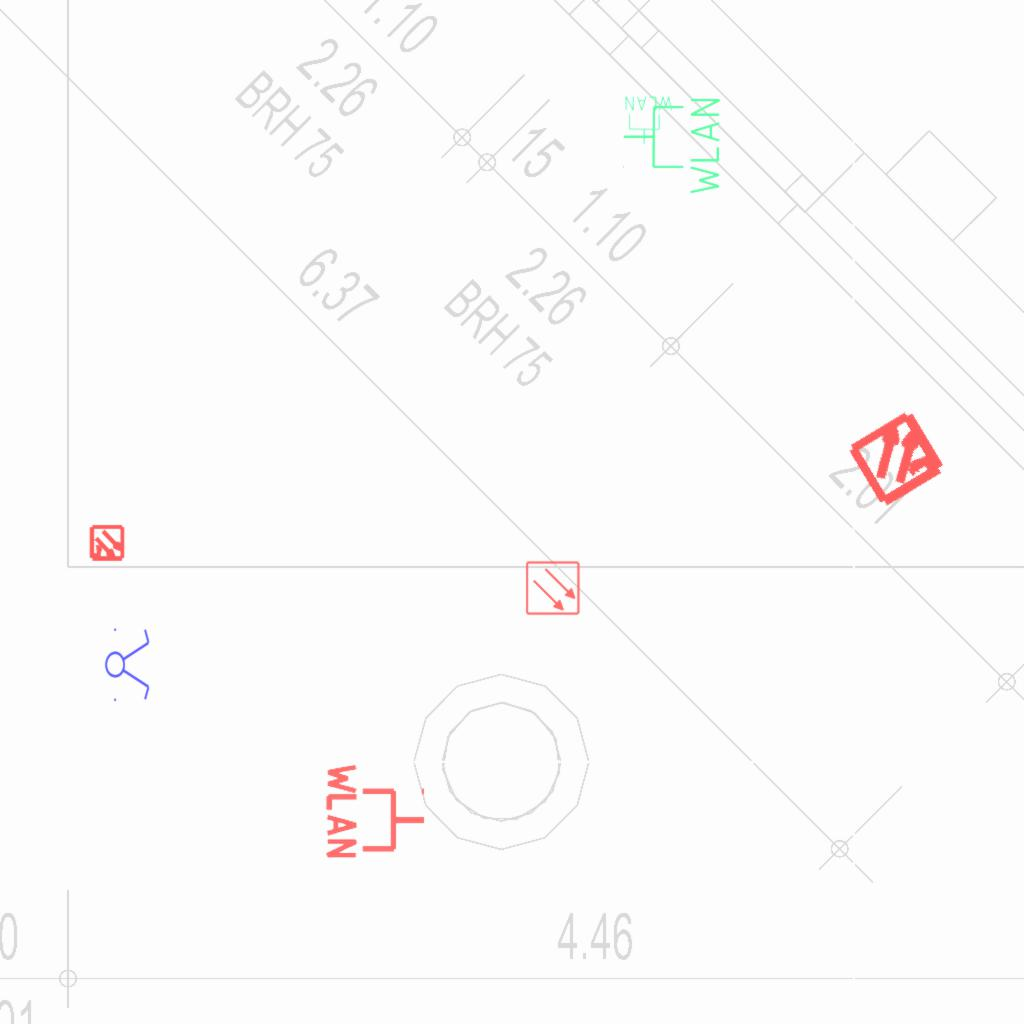OT_Multisensormelder_(Kombination_RMO_WMD): (820, 379, 977, 536), (79, 516, 135, 572)
RMO_Rauchmelder_optischer: (525, 560, 581, 616)
Serienschalter: (104, 622, 152, 706)
WLAN: (324, 759, 429, 863), (620, 94, 724, 199), (623, 94, 675, 146)
